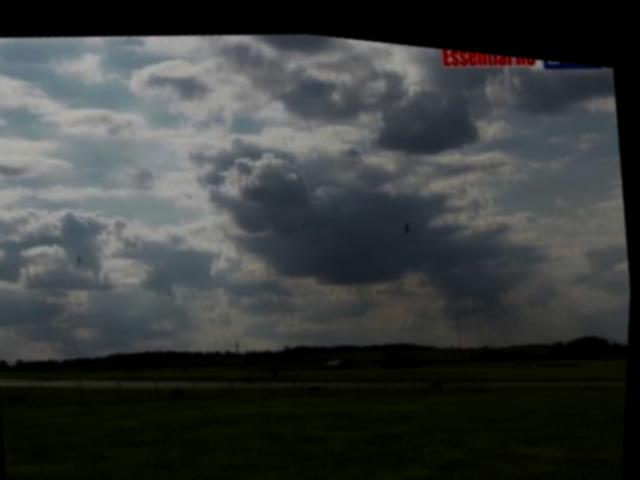uav: (399, 206, 420, 231), (70, 246, 88, 270)
